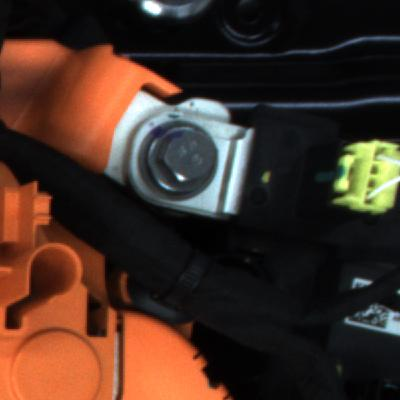nut_b: (125, 104, 230, 208)
